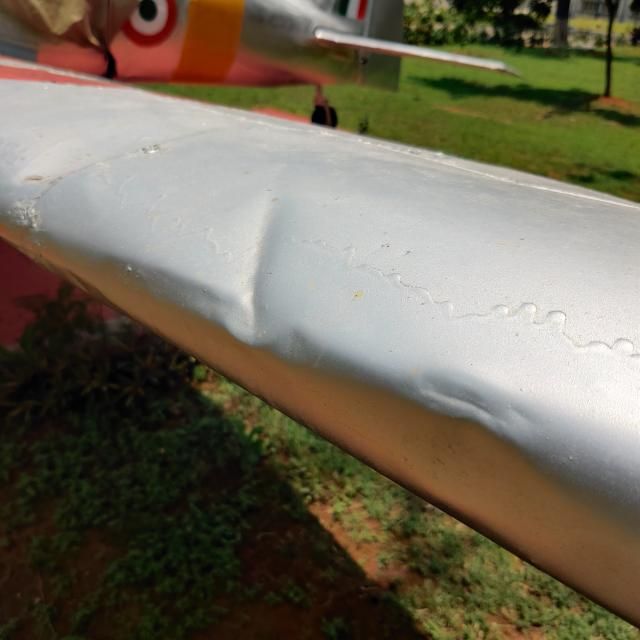dent: (194, 181, 346, 369), (401, 346, 557, 463)
